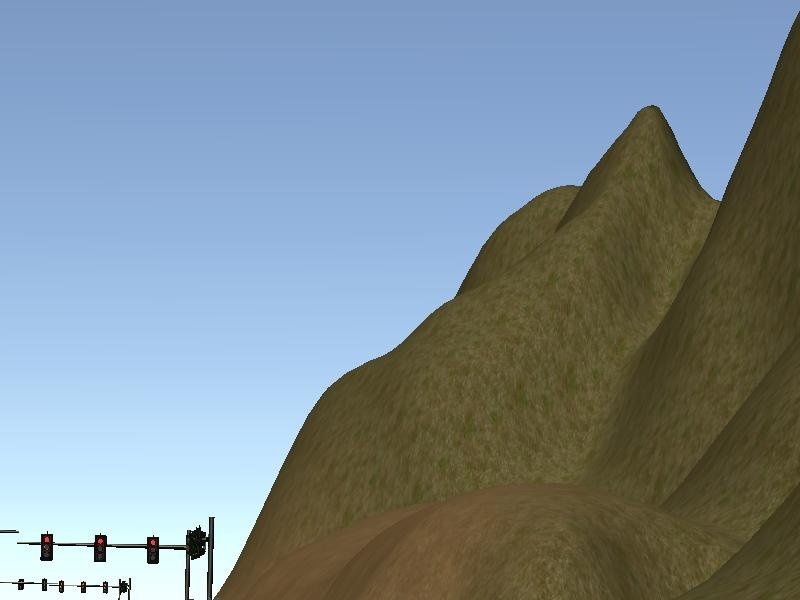red: (90, 533, 108, 566), (143, 532, 159, 568), (38, 532, 54, 562)
